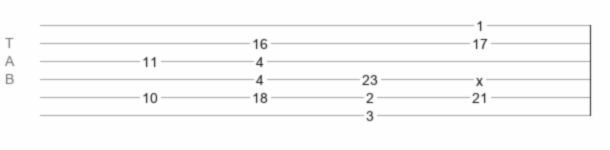1: (476, 18, 484, 28)
10: (142, 90, 158, 100)
11: (142, 54, 158, 64)
16: (252, 36, 268, 46)
17: (472, 36, 488, 46)
18: (252, 90, 268, 100)
2: (366, 90, 374, 100)
21: (472, 90, 488, 100)
23: (362, 72, 378, 82)
3: (366, 108, 374, 118)
4: (256, 54, 264, 64), (256, 72, 264, 82)
x: (476, 73, 483, 81)
